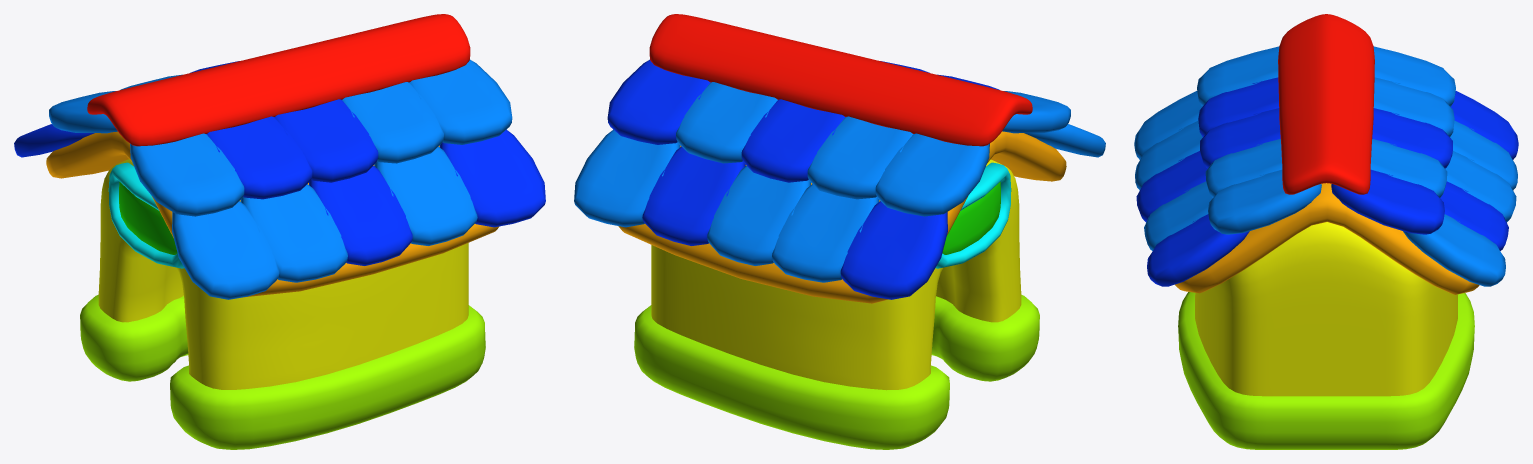
File: Niche 1.fbx
3 renders of one model, left to right at view 1: azimuth 30°, elevation 25°; view 2: azimuth 150°, elevation 25°; view 3: azimuth 270°, elevation 25°, orthographic. The views are drawn at different scales.
Parts seen in each view (by area): view 1: Niche; view 2: Niche; view 3: Niche.
Part boxes in pixels (x1=…): Niche: x1=14, y1=14, x2=545, y2=449; Niche: x1=574, y1=14, x2=1105, y2=449; Niche: x1=1134, y1=14, x2=1518, y2=449.
Size of the model in its own units: 167 by 143 by 166.
